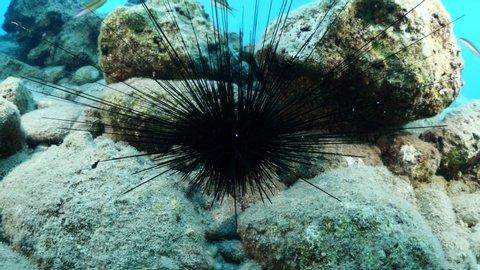urchin: (10, 0, 466, 230)
